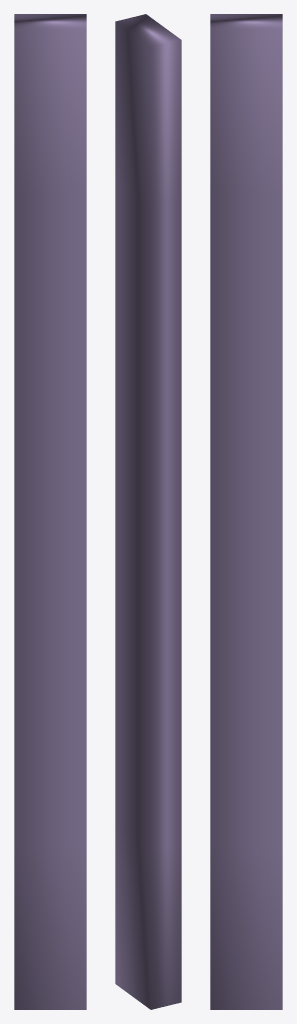
File: Wall_Orn_01_x6.fbx
3 views of the same model, side by side, from view 1: azimuth 90°, elevation 25°; view 2: azimuth 210°, elevation 25°; view 3: azimuth 270°, elevation 25° (orthographic).
Parts seen in each view (by area): view 1: Wall_Orn_01_x6; view 2: Wall_Orn_01_x6; view 3: Wall_Orn_01_x6.
Boxes of the visible parts, x1,y1,x2,y2 form: Wall_Orn_01_x6: (14, 14, 86, 1009); Wall_Orn_01_x6: (115, 14, 181, 1009); Wall_Orn_01_x6: (210, 14, 282, 1009).
Size of the model in its own units: 30 by 900 by 60.
